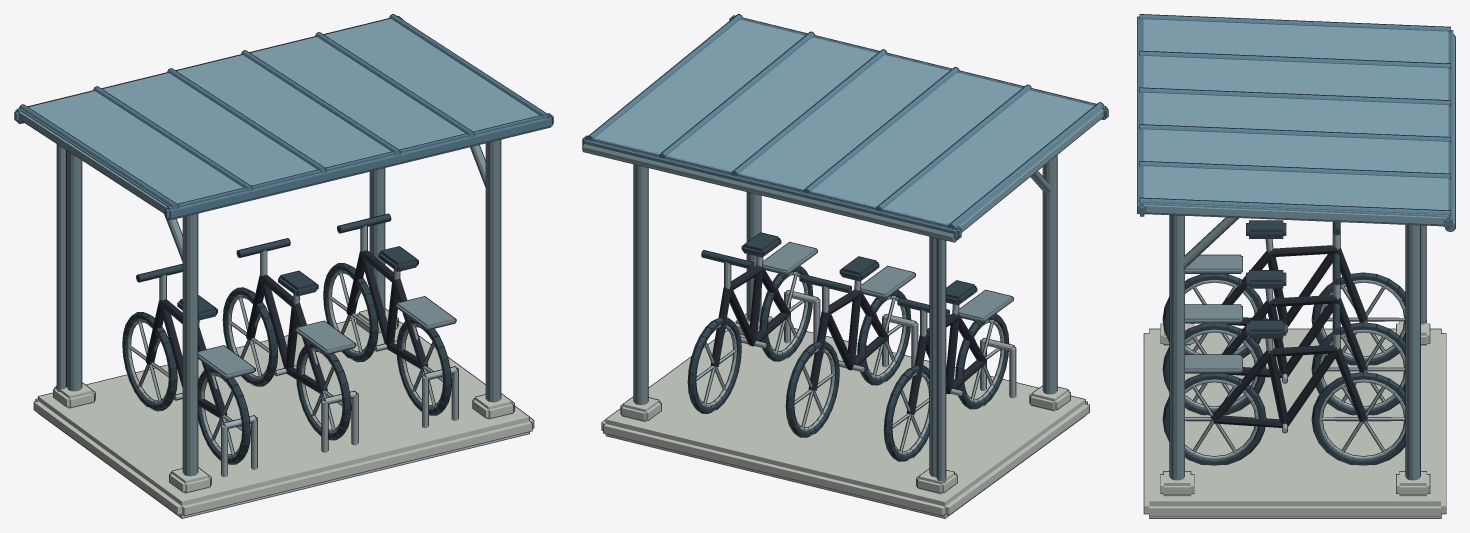
The model's file is Stair_BicycleShelter.fbx.
3 views of the same model, side by side, from view 1: azimuth 30°, elevation 25°; view 2: azimuth 150°, elevation 25°; view 3: azimuth 270°, elevation 25° (orthographic). The views are drawn at different scales.
Parts seen in each view (by area): view 1: Stair_BicycleShelter_Mesh, NPR_Outline_Stair_BicycleShelter_Mesh; view 2: Stair_BicycleShelter_Mesh, NPR_Outline_Stair_BicycleShelter_Mesh; view 3: Stair_BicycleShelter_Mesh, NPR_Outline_Stair_BicycleShelter_Mesh.
Part boxes in pixels (x1,y1,x2,y2): Stair_BicycleShelter_Mesh: (15, 14, 552, 518); NPR_Outline_Stair_BicycleShelter_Mesh: (14, 14, 553, 518); Stair_BicycleShelter_Mesh: (583, 14, 1107, 518); NPR_Outline_Stair_BicycleShelter_Mesh: (582, 14, 1108, 518); Stair_BicycleShelter_Mesh: (1137, 14, 1455, 518); NPR_Outline_Stair_BicycleShelter_Mesh: (1137, 14, 1455, 518).
Size of the model in its own units: 219 by 174 by 154.
